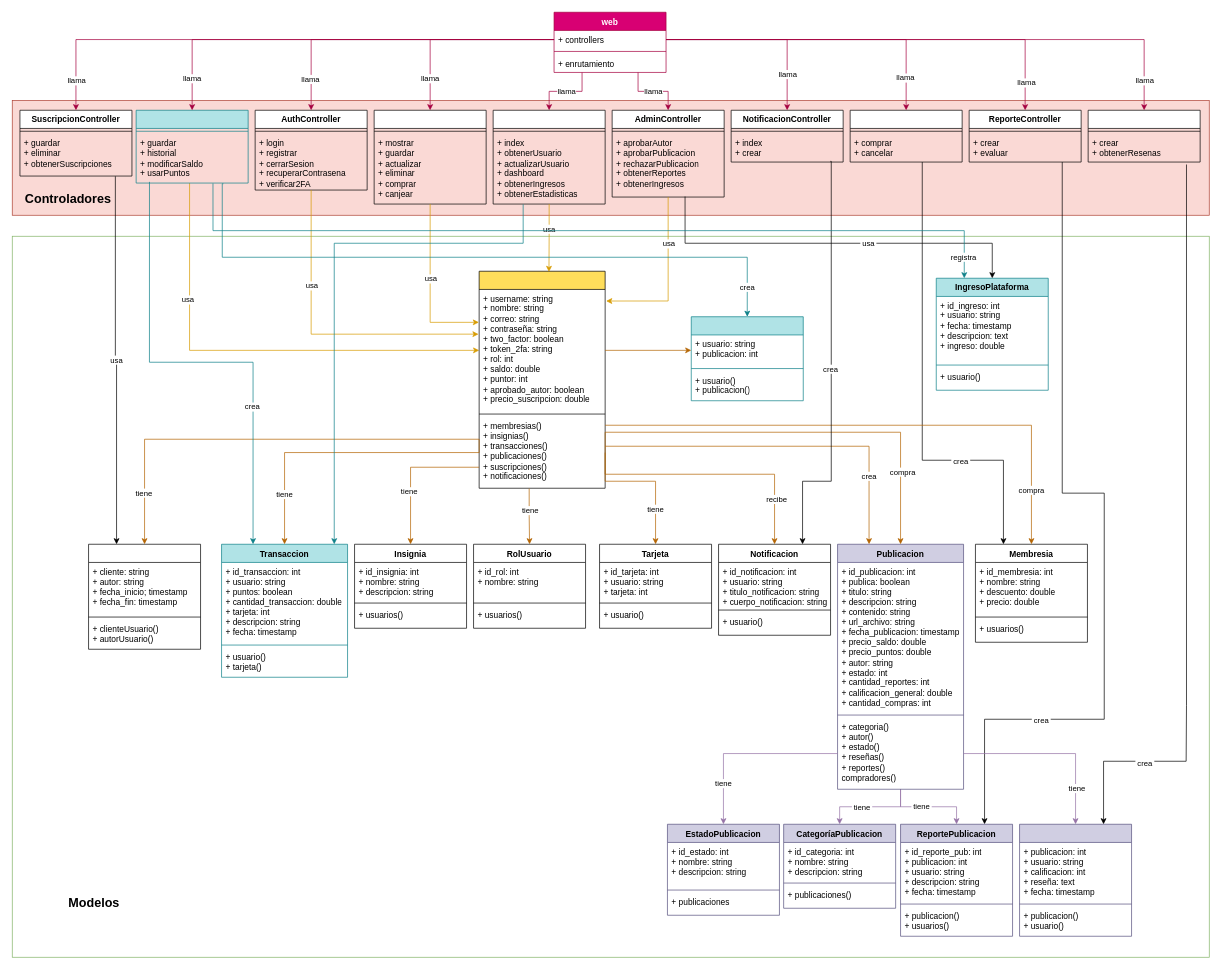
Image size: 1222x970. Some labels were removed from this diagram. Here are the shapes that lost their labels. From the top down, the box of each, then its label:
(135, 110, 248, 183): TransaccionController
(849, 110, 962, 162): MembresiaController
(1087, 110, 1200, 162): ReseñaController
(373, 110, 486, 204): PublicacionController
(492, 110, 605, 204): UsuarioController
(691, 316, 803, 401): PublicacionComprada
(478, 271, 605, 488): Usuario
(88, 544, 201, 649): Suscripcion
(1019, 824, 1132, 936): ReseñaPubliacion
